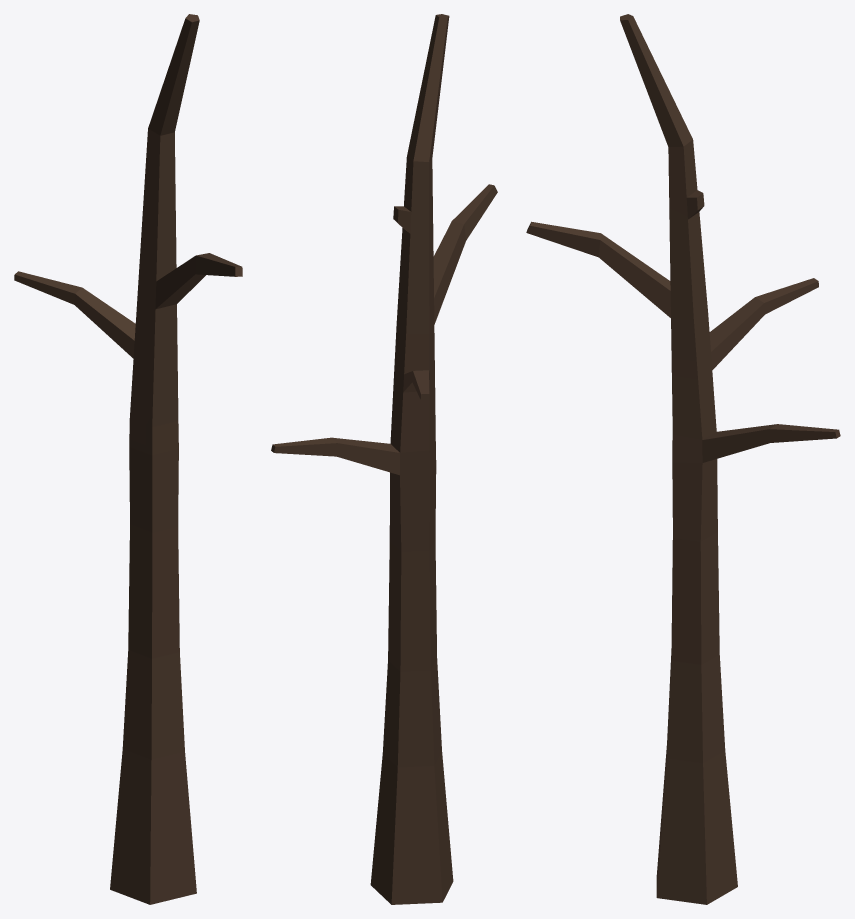
File: deadtree2.fbx
The picture shows the model from 3 angles, left to right: view 1: azimuth 30°, elevation 25°; view 2: azimuth 150°, elevation 25°; view 3: azimuth 270°, elevation 25°; orthographic projection. The views are drawn at different scales.
Parts seen in each view (by area): view 1: trunk2; view 2: trunk2; view 3: trunk2.
Part boxes in pixels (<box>): trunk2: <box>14,14,242,904</box>; trunk2: <box>271,14,497,904</box>; trunk2: <box>526,14,840,904</box>.
Bounding box in the file's own units: 482 × 2653 × 866.
